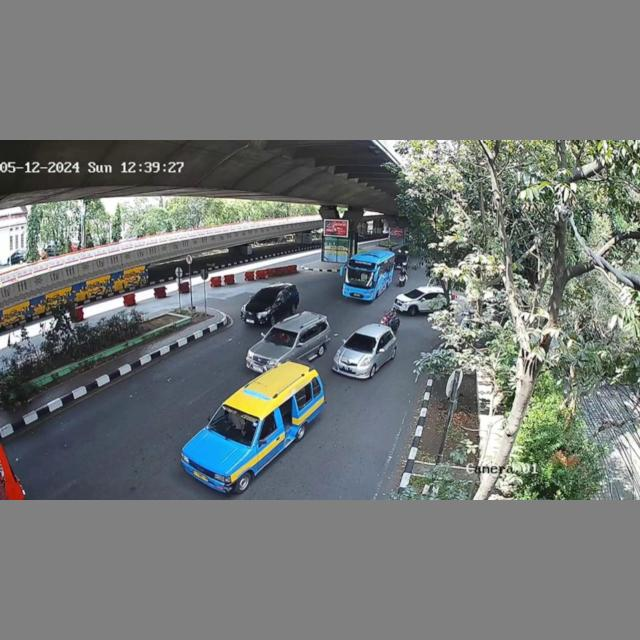windshield: (206, 405, 261, 445), (344, 331, 378, 358), (263, 328, 299, 346), (249, 289, 278, 305)
